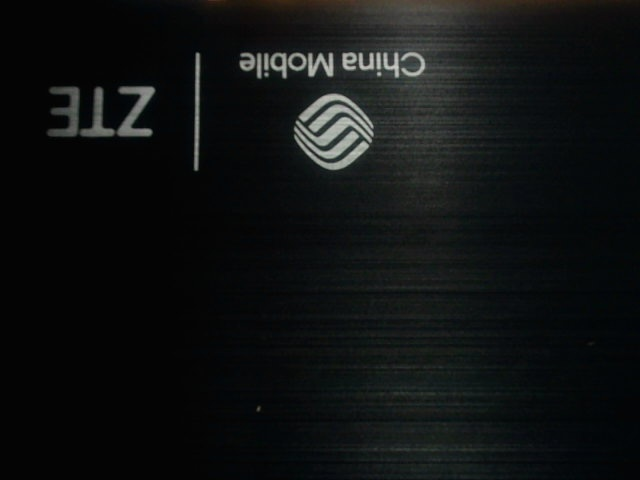AL_ZTEChinaMobile: (30, 25, 433, 182)
